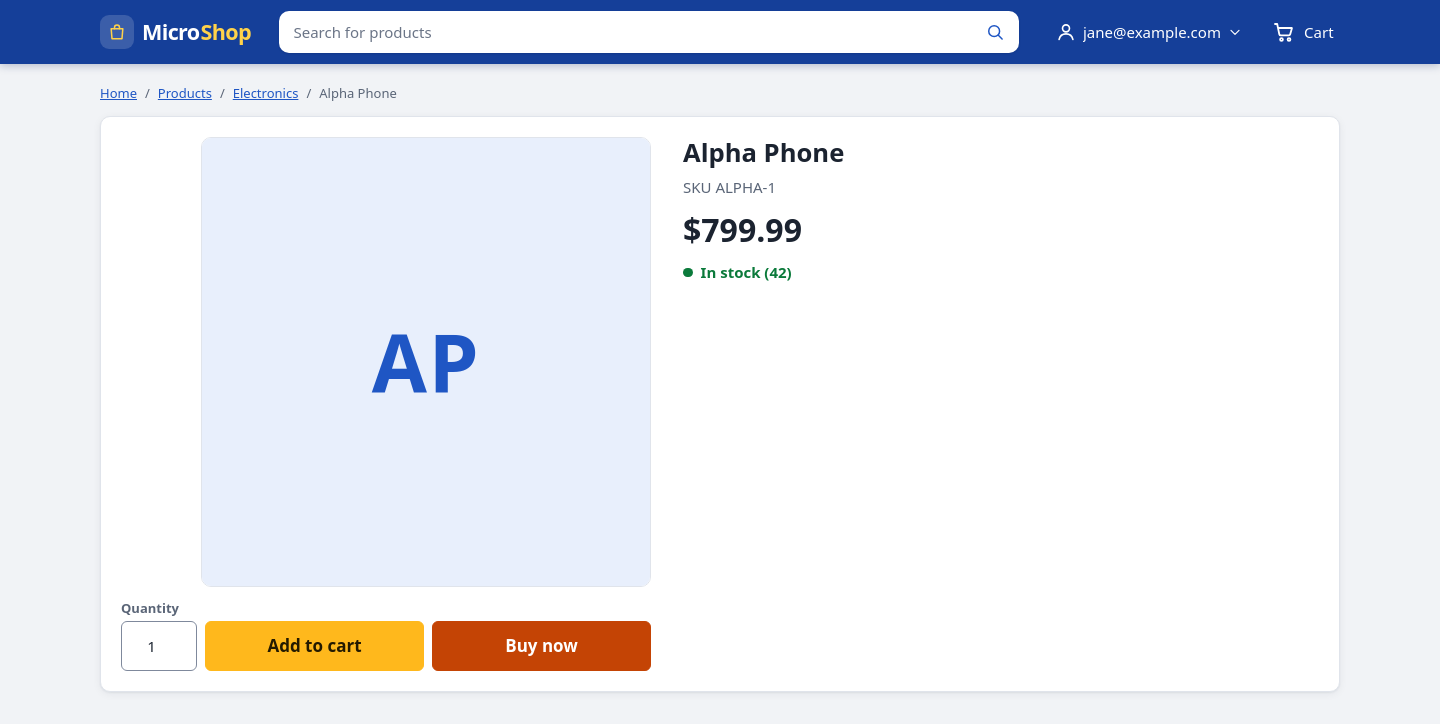
Test: App routes for the cart and the orders › works from the product page to a placed order: add, header count, cart, place order, orders
The width and height of the screenshot is (1440, 724).
Expected: the heading "Alpha Phone" is shown, x1=683 y1=134 x2=844 y2=170
Expected: the button "Add to cart" is enabled, x1=205 y1=621 x2=424 y2=671
Replace the text in the number field labelled "Quantity" with "2" at coordinates (159, 646), box x1=121 y1=621 x2=197 y2=671
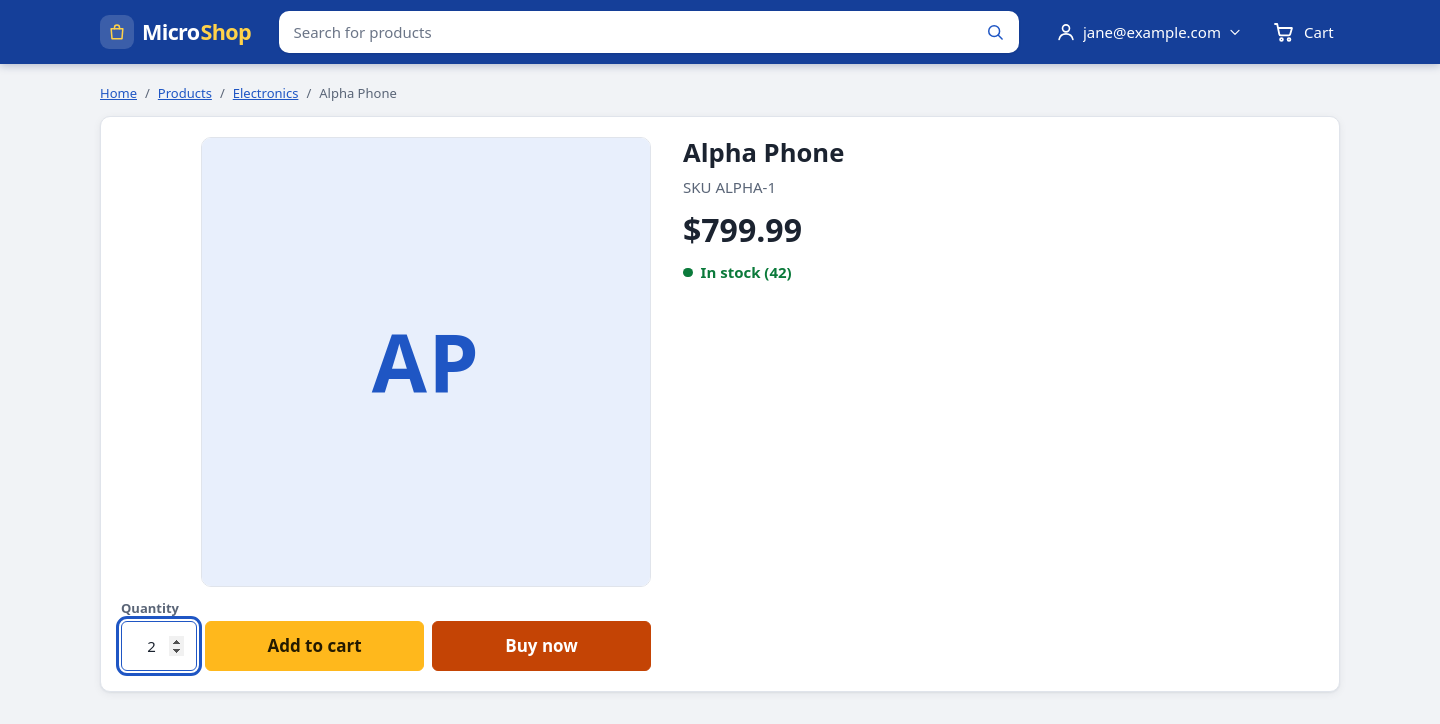
Click the button "Add to cart" at coordinates (314, 646), box x1=205 y1=621 x2=424 y2=671
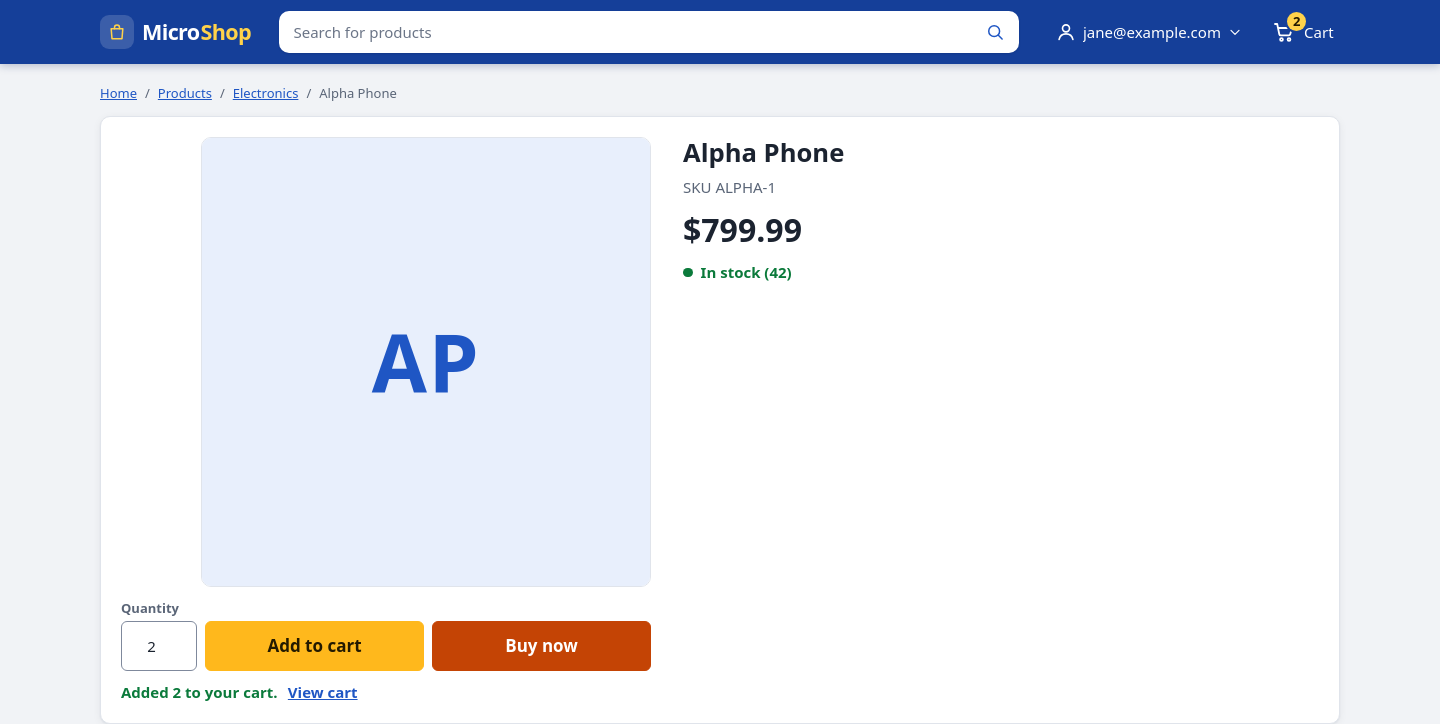
Expected: the text "Added 2 to your cart." is shown, x1=121 y1=682 x2=358 y2=702
Click the link with aria-label "Cart (2)" at coordinates (1303, 28), box x1=1272 y1=12 x2=1334 y2=44
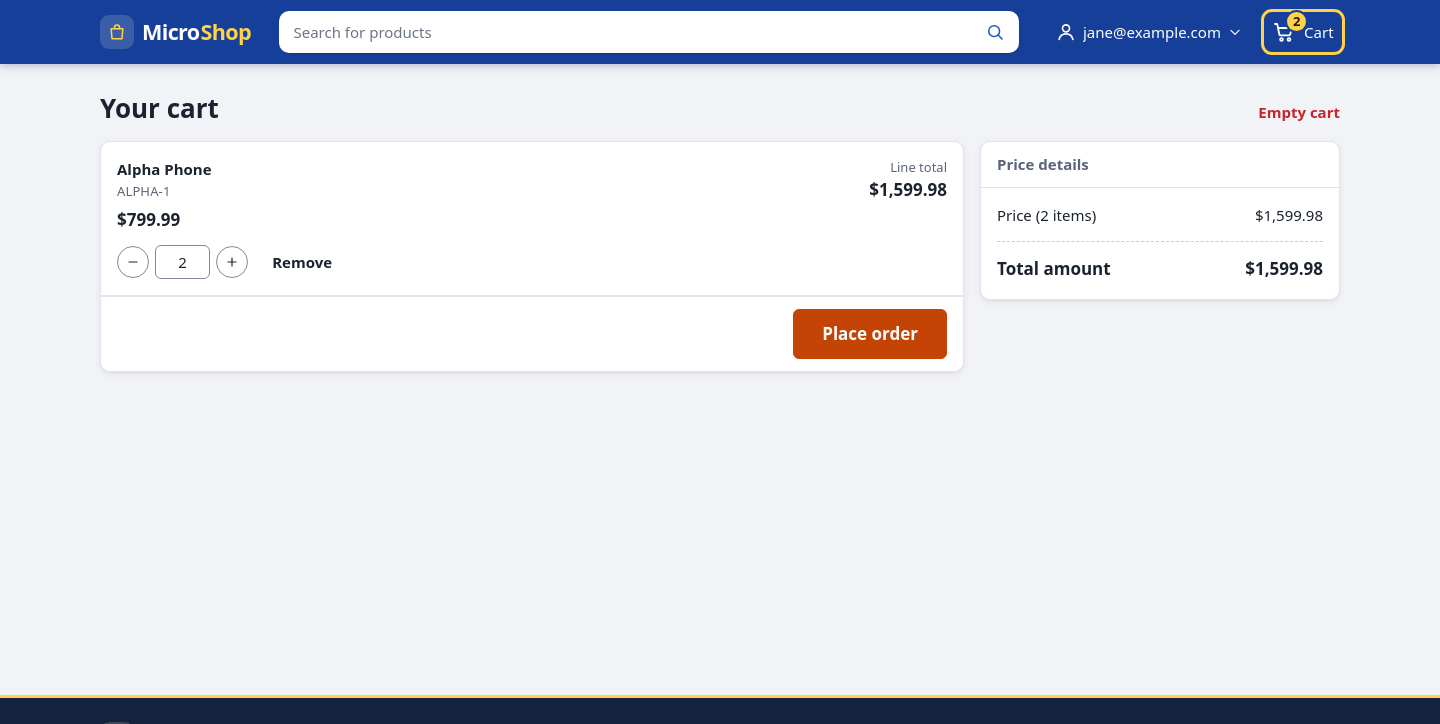
Expected: the heading "Your cart" is shown, x1=100 y1=92 x2=219 y2=124
Click the button "Place order" at coordinates (870, 334), box x1=793 y1=309 x2=947 y2=359
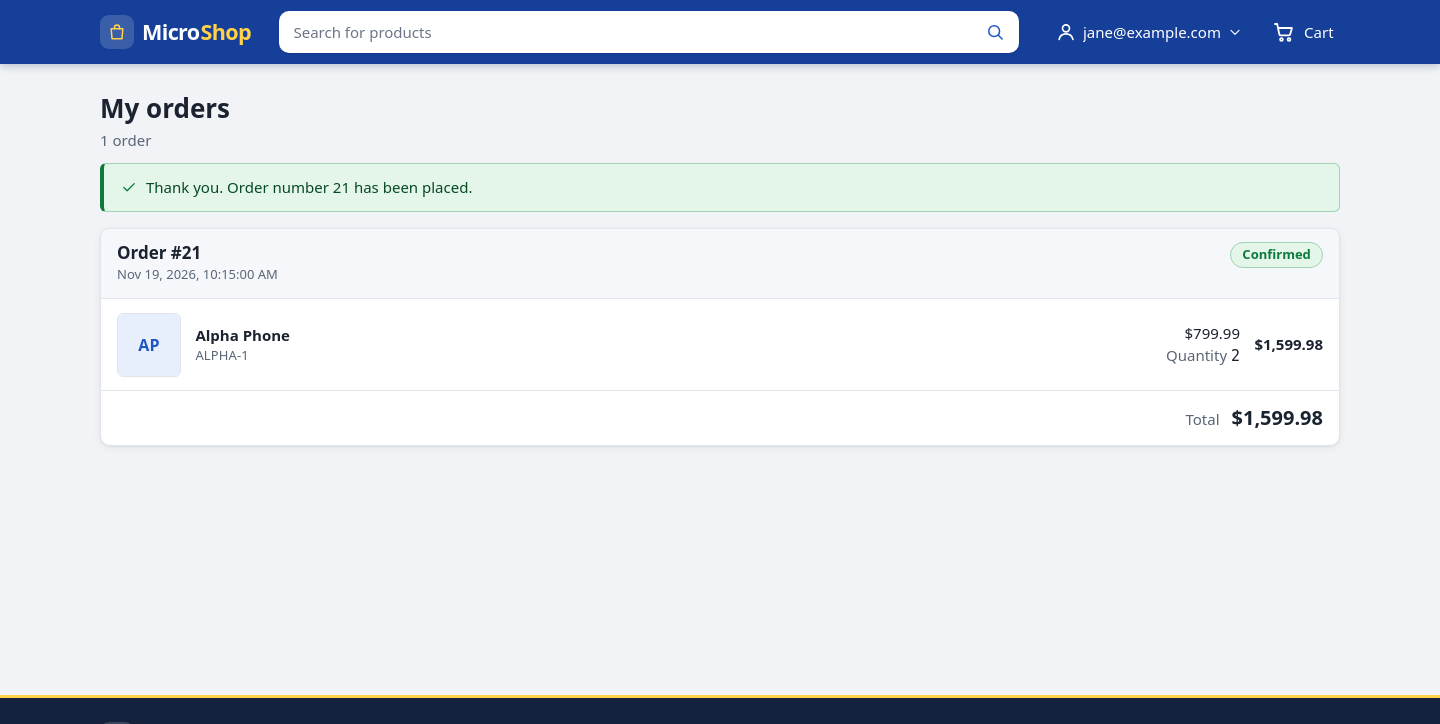
Expected: the heading "My orders" is shown, x1=100 y1=90 x2=230 y2=126
Expected: the text "Thank you. Order number 21 has been placed." is shown, x1=100 y1=163 x2=1340 y2=212
Expected: the link with aria-label "Cart (0)" is shown, x1=1272 y1=20 x2=1334 y2=44
